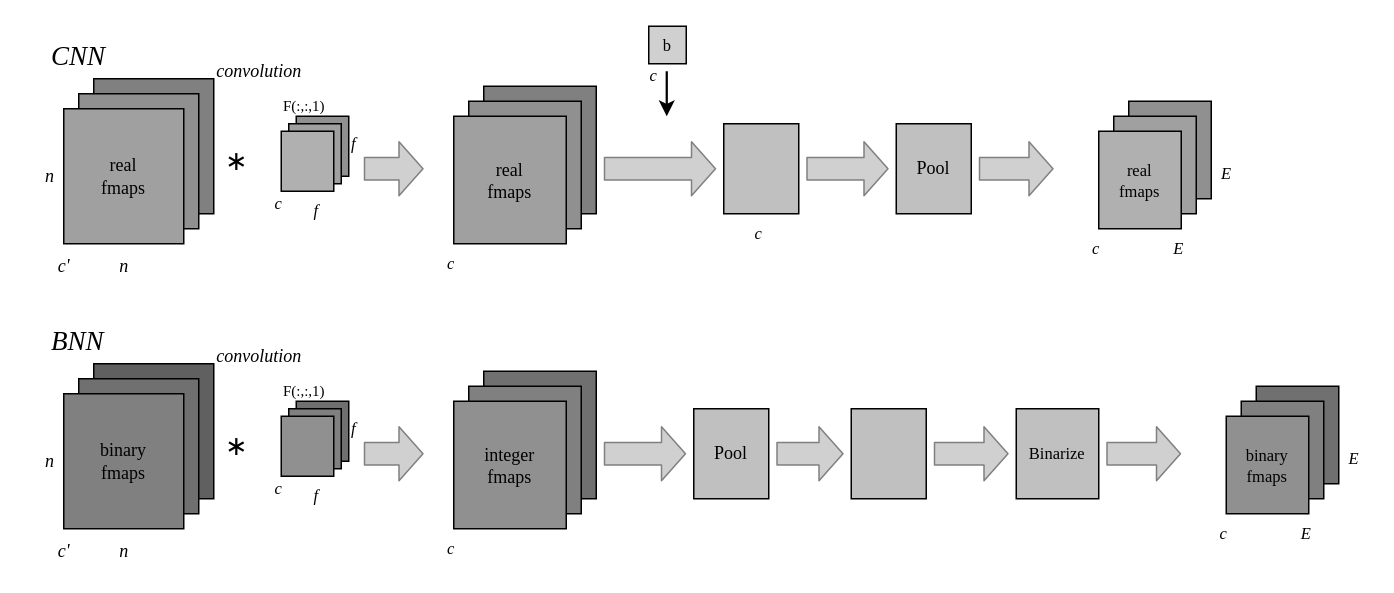
Image size: 1394x593. Some labels were removed from this diagram. Here are the shapes that lost their labels. From the top down, the centre of each, then its label:
(760,168): ReLU
(888,453): Batch norm
